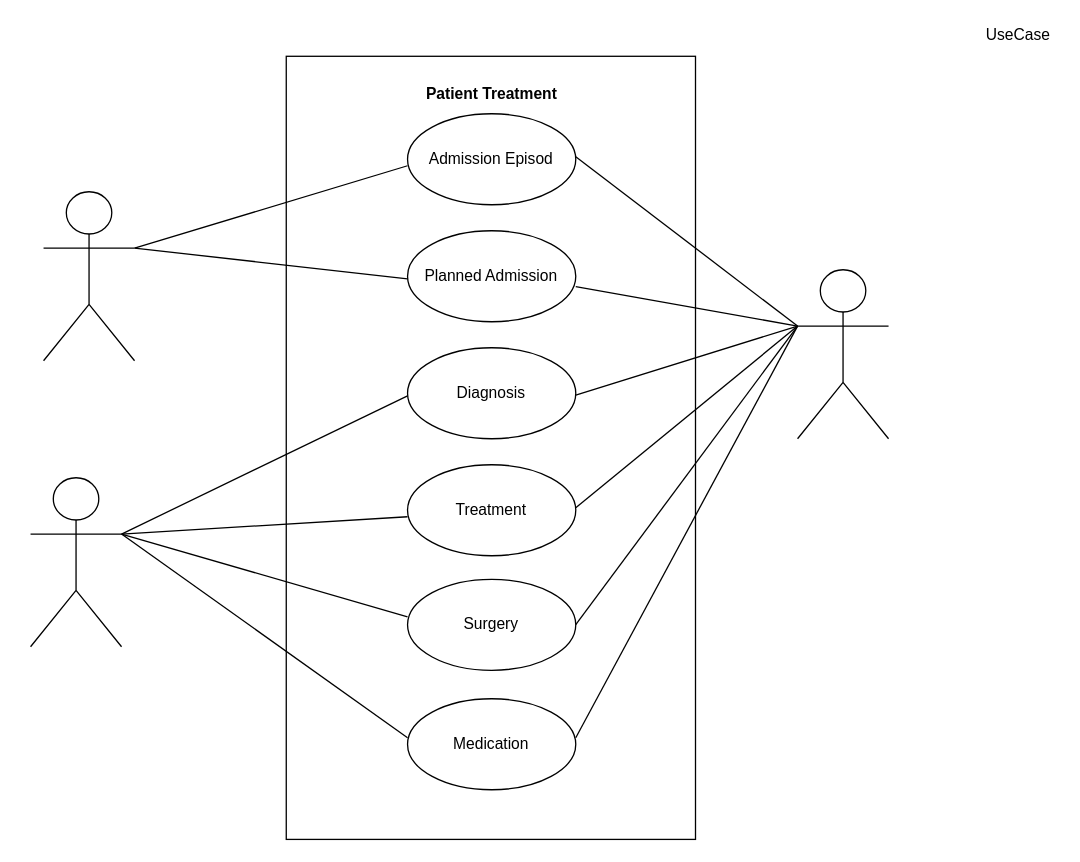
Some shapes in this 1080 by 862 pixel diagram are drawn without their labels. Each missing label, with the box of its shape:
Community Doctor: (42, 190, 135, 361)
Hospital Doctor: (29, 476, 122, 647)
Patient: (796, 268, 889, 439)
